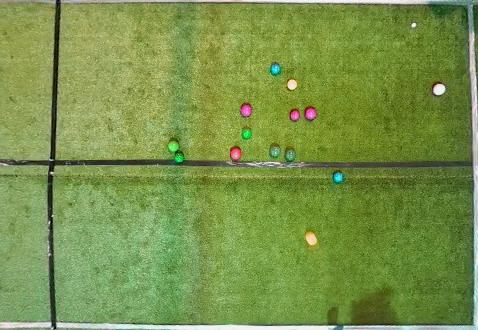blue: (333, 172, 344, 183), (270, 64, 281, 75)
green: (168, 141, 180, 152), (285, 149, 296, 160), (242, 128, 252, 139), (271, 146, 281, 157), (174, 153, 184, 163)
red: (230, 148, 242, 160), (433, 84, 446, 95), (241, 104, 252, 116), (306, 107, 316, 120), (291, 110, 300, 121)
vline: (1, 0, 62, 329), (464, 0, 477, 330)
white: (411, 23, 417, 28)
yellow: (305, 231, 317, 245), (287, 80, 297, 90)
